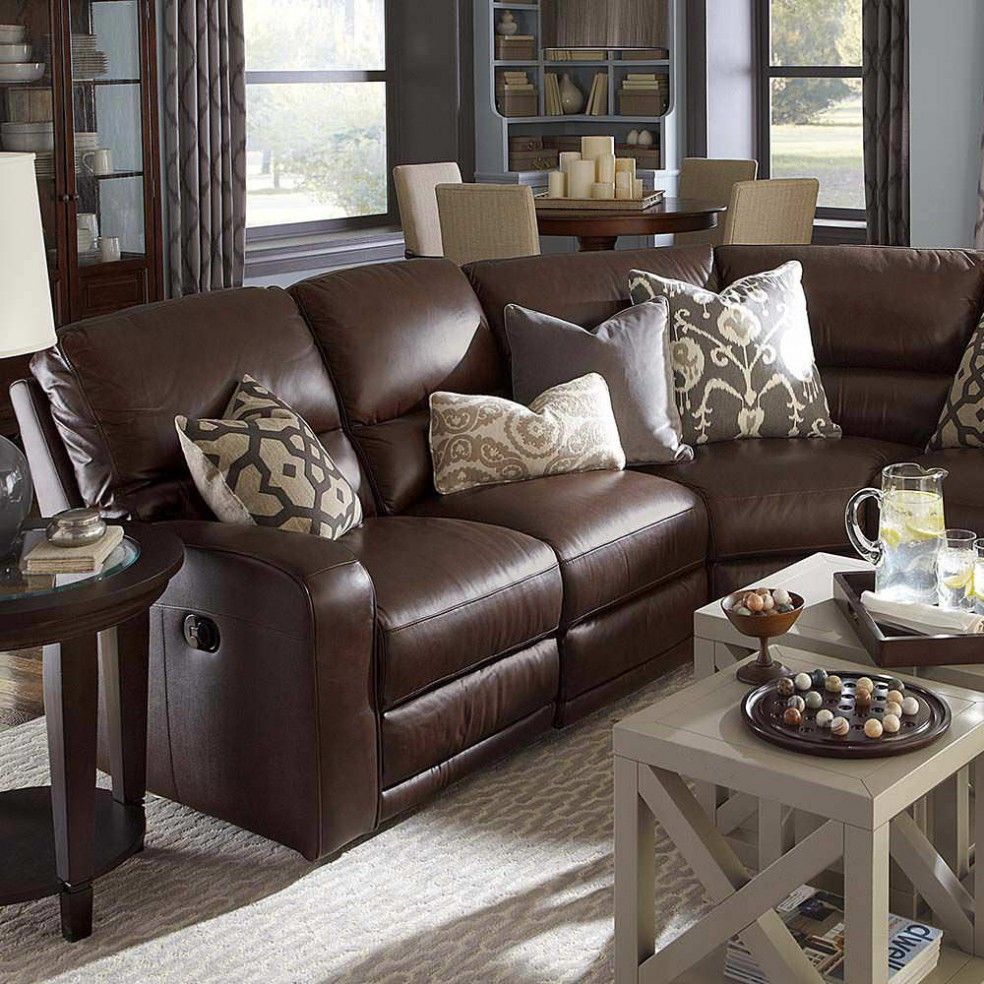chairs: (15, 244, 984, 873)
